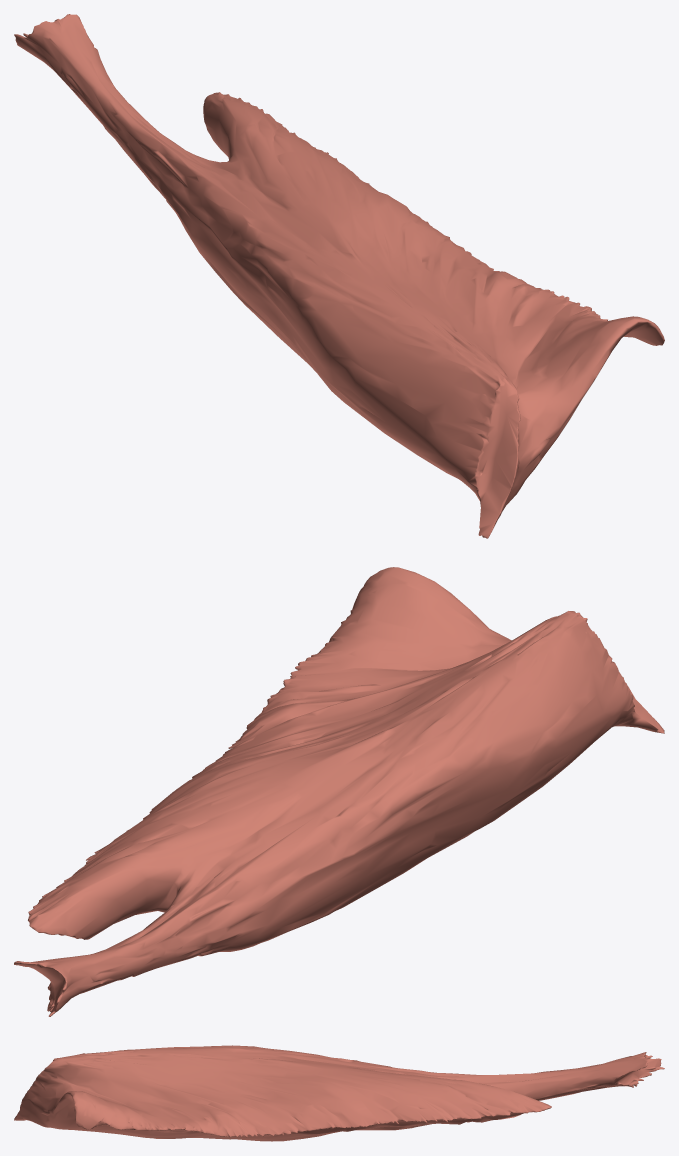
3 views of the same model, one above another, from view 1: azimuth 30°, elevation 25°; view 2: azimuth 150°, elevation 25°; view 3: azimuth 270°, elevation 25° (orthographic). The views are drawn at different scales.
Visible parts, largest first — view 1: 左侧大收肌; view 2: 左侧大收肌; view 3: 左侧大收肌.
Boxes of the visible parts, <box> form: 左侧大收肌: <box>14,14,664,538</box>; 左侧大收肌: <box>14,567,664,1016</box>; 左侧大收肌: <box>14,1045,664,1141</box>.
Size of the model in its own units: 0.1438 by 0.0772 by 0.5271.
